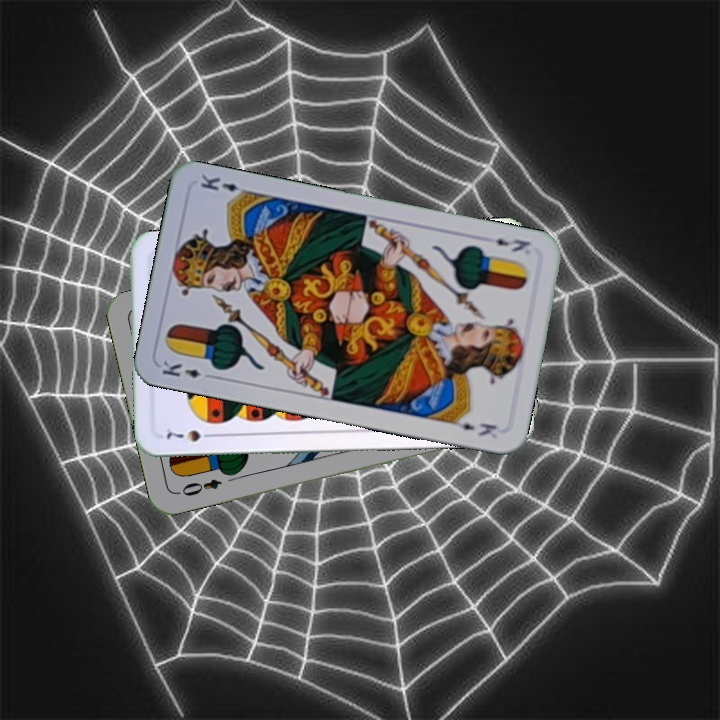EK: (158, 356, 217, 382), (492, 234, 533, 255)
EO: (173, 475, 224, 499)
S7: (162, 423, 218, 445)
